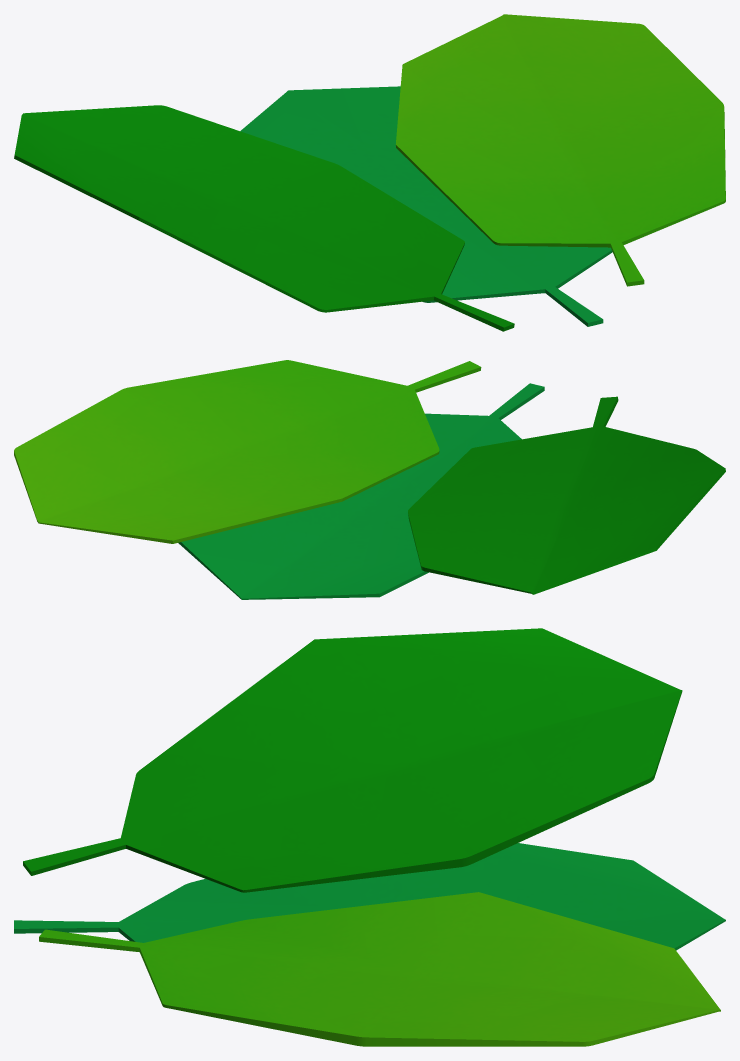
Rendered from Folhas.fbx.
The picture shows the model from 3 angles, top to bottom: view 1: azimuth 30°, elevation 25°; view 2: azimuth 150°, elevation 25°; view 3: azimuth 270°, elevation 25°; orthographic projection. The views are drawn at different scales.
Parts seen in each view (by area): view 1: Plane.003; view 2: Plane.003; view 3: Plane.003.
Boxes of the visible parts, x1,y1,x2,y2 form: Plane.003: (14,14,725,331); Plane.003: (14,360,725,599); Plane.003: (14,628,725,1046).
Size of the model in its own units: 72.94 by 10.89 by 60.03.
1 material, 1 textured.
